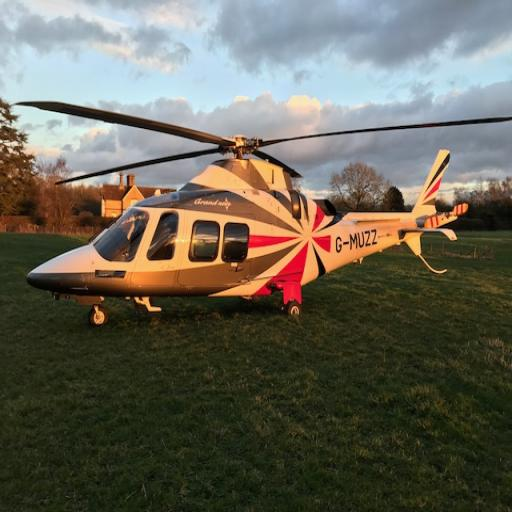helicopter: (19, 84, 509, 331)
